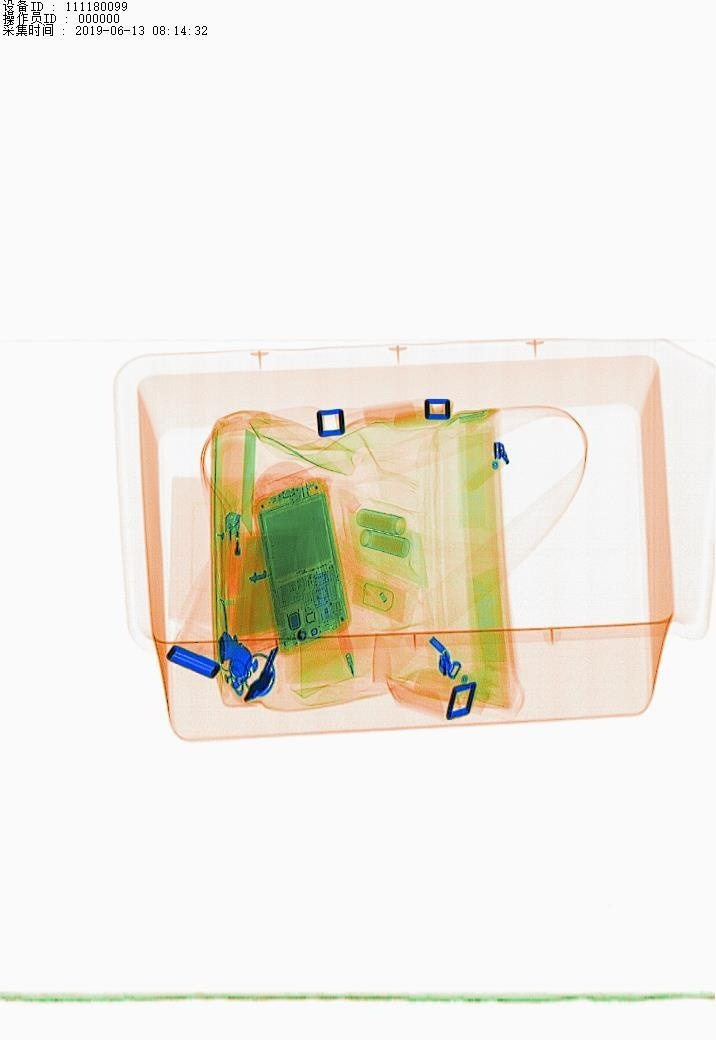NonmetallicFire: (209, 501, 249, 605)
